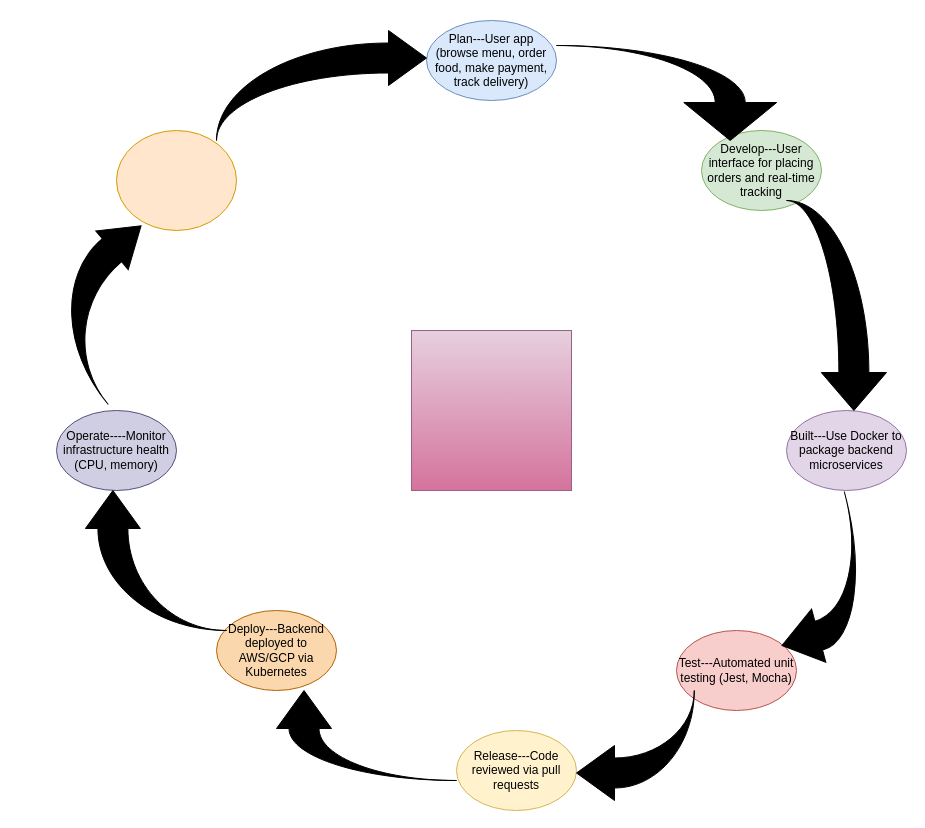
The diagram is 925 pixels wide and 828 high, and some of its shapes have lost their labels. The centre of each missing label's shape, as x and y in pixels:
DEVOPS Food Delivery app: [491,410]
Monitor---Monitor with Prometheus + Grafana or ELK stack: [176,180]
